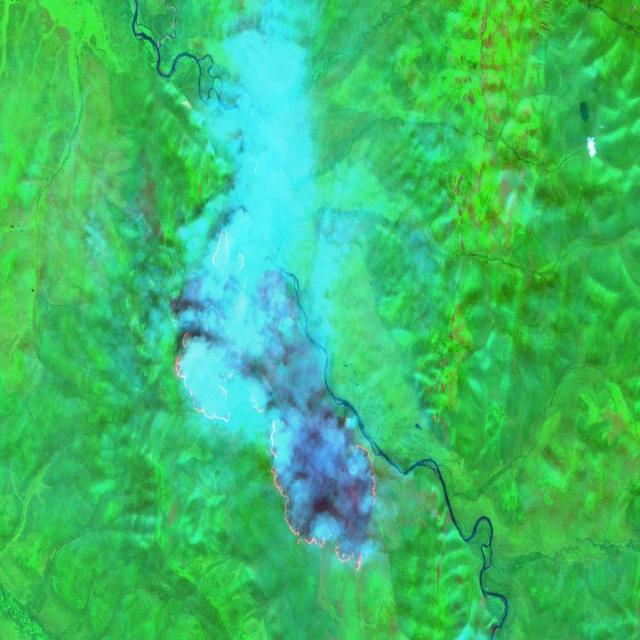fire: (174, 326, 379, 582)
